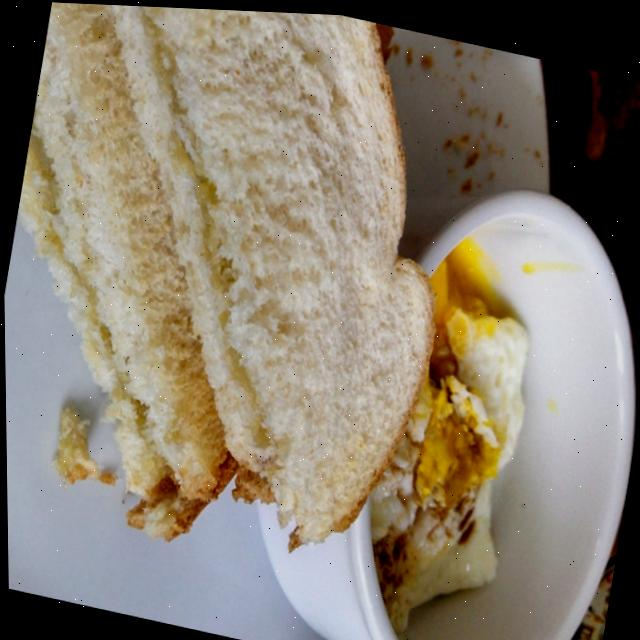面包点心: (0, 0, 497, 595)
